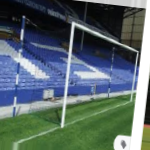goals: (36, 19, 139, 131)
